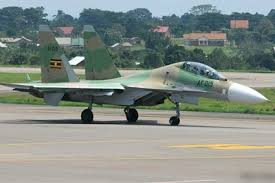maybay_muctieu: (19, 25, 266, 126)
